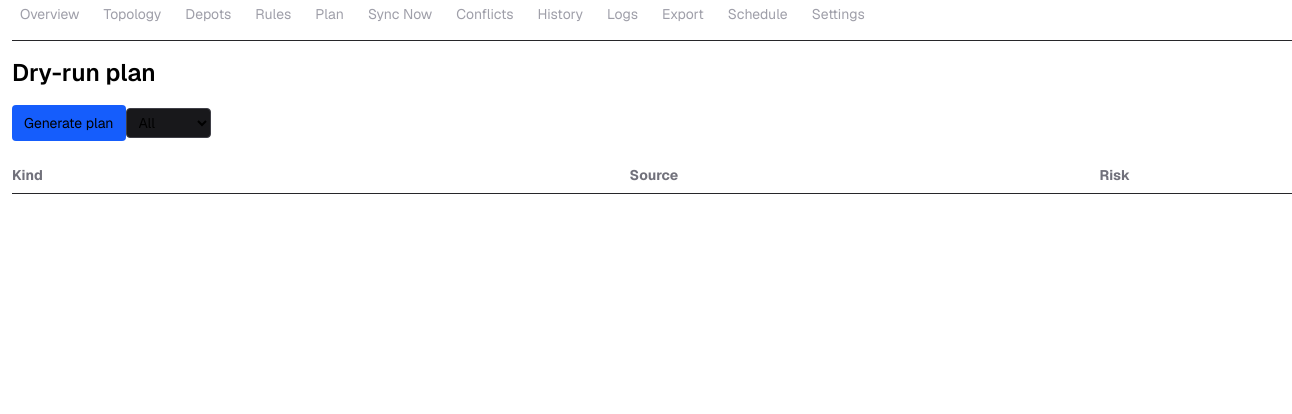
it: PlanViewClient [IMPL-MESH_GUI] › user_can_approve_plan_without_starting_sync
The width and height of the screenshot is (1292, 414).
Click the button with test id "generate-plan-btn": (69, 123) [12,105,126,141]
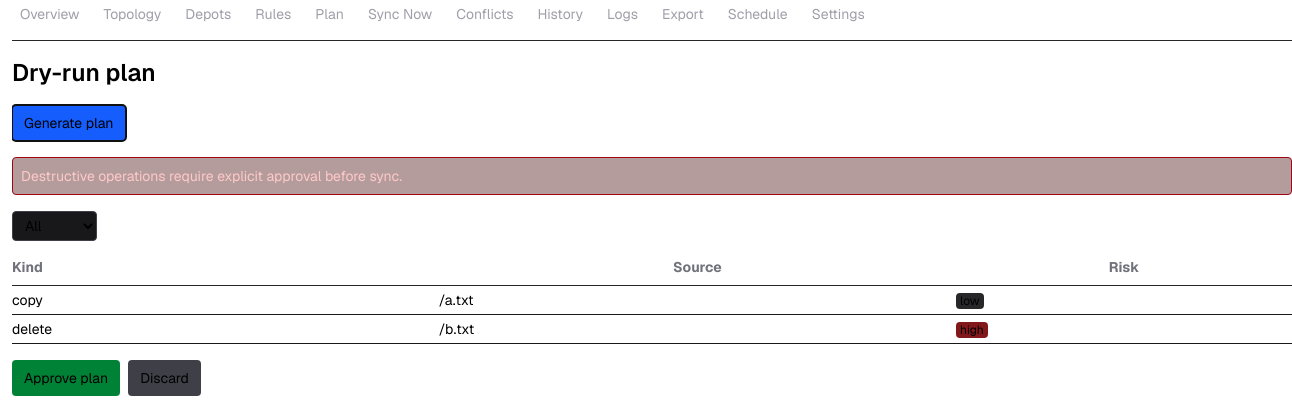
Expected: the button with test id "approve-plan-btn" is shown
Click the button with test id "approve-plan-btn": (66, 378) [12,360,120,396]
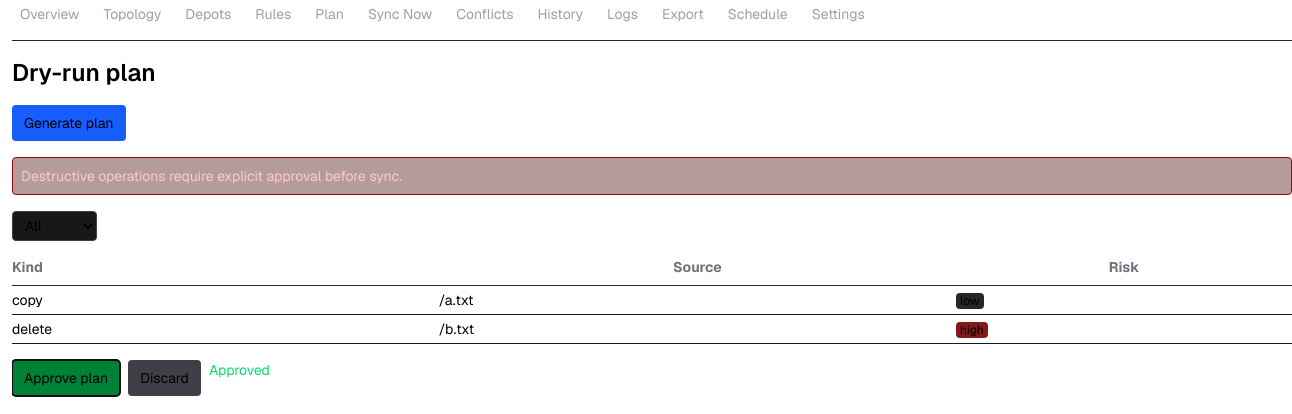
Expected: the text "Approved" is shown, [209,361,270,379]
